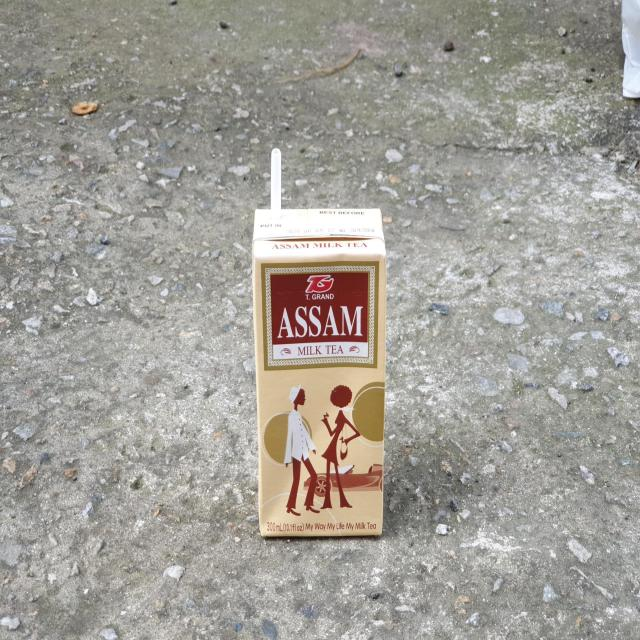paperpack: (252, 208, 386, 537)
